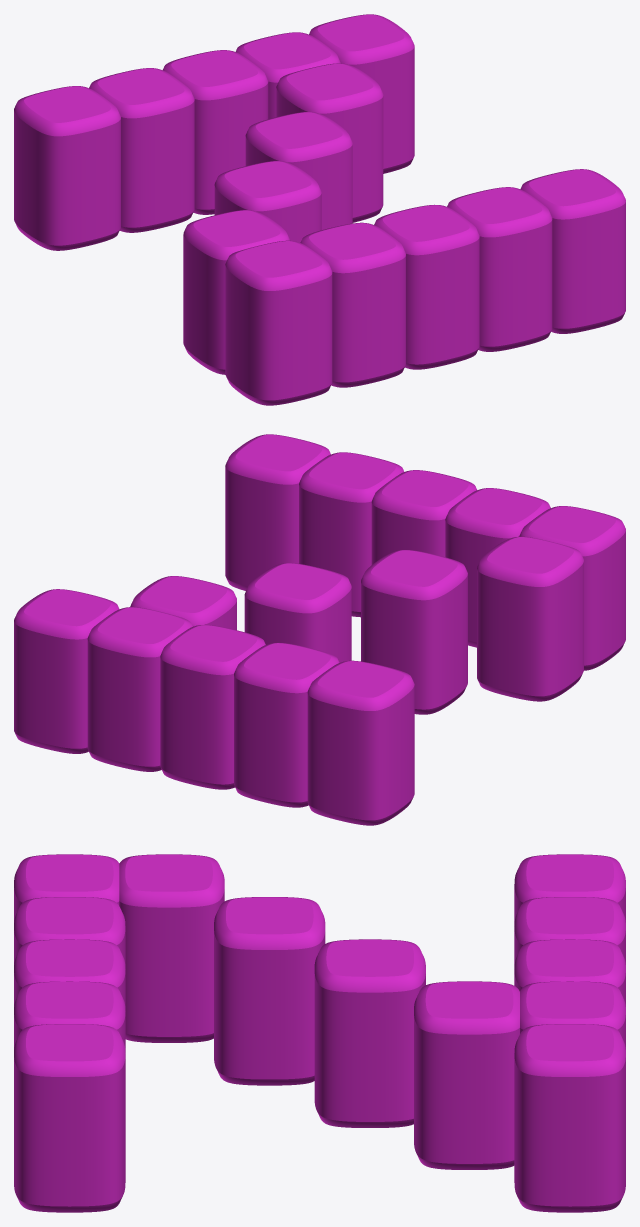
The model's file is Letter_Z.fbx.
The picture shows the model from 3 angles, top to bottom: view 1: azimuth 30°, elevation 25°; view 2: azimuth 150°, elevation 25°; view 3: azimuth 270°, elevation 25°; orthographic projection. The views are drawn at different scales.
Parts seen in each view (by area): view 1: Letter_Z; view 2: Letter_Z; view 3: Letter_Z.
Part boxes in pixels (x1=…): Letter_Z: x1=14, y1=14, x2=625, y2=405; Letter_Z: x1=14, y1=434, x2=625, y2=825; Letter_Z: x1=14, y1=854, x2=625, y2=1212.
Bounding box in the file's own units: 0.4311 × 0.14 × 0.5146.
